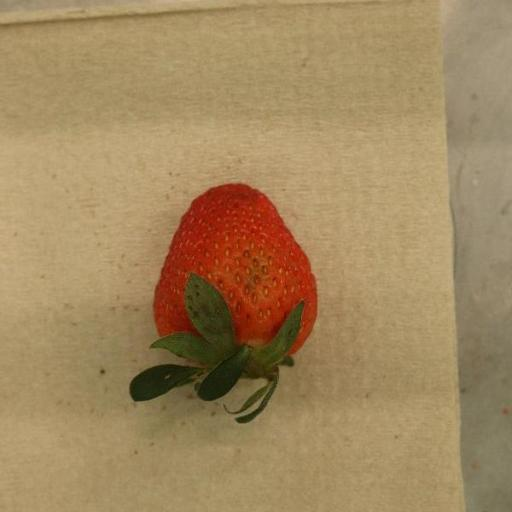Strawberry: (129, 184, 318, 425)
